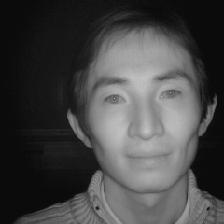happy: (47, 8, 224, 199)
